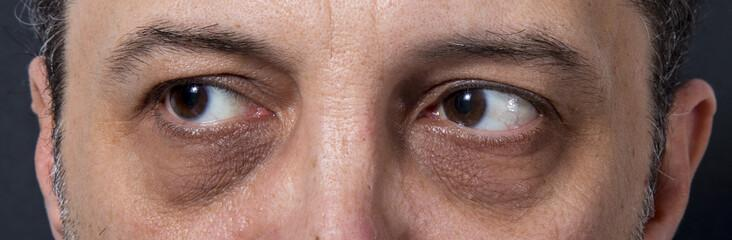Eyebags: (132, 114, 274, 203), (412, 136, 544, 211)
